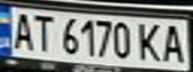0: (112, 19, 136, 60)
1: (75, 16, 96, 56)
6: (57, 15, 81, 55)
7: (93, 17, 115, 57)
A: (157, 21, 190, 64), (6, 9, 36, 52)
K: (133, 20, 166, 63)
T: (30, 11, 57, 53)
